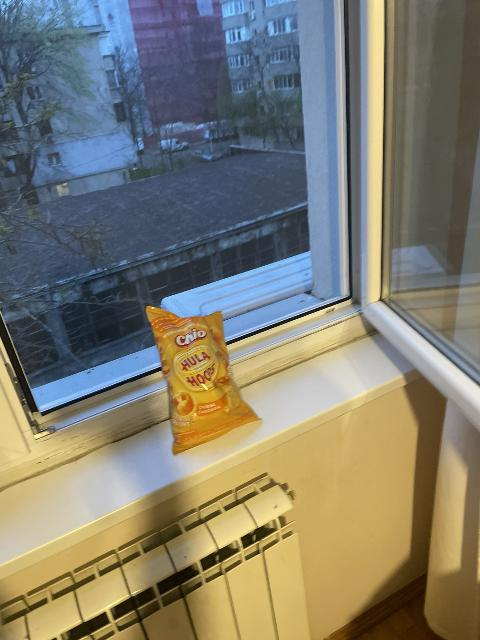Chio Hula Hoops Cheese 70g: (147, 308, 266, 453)
